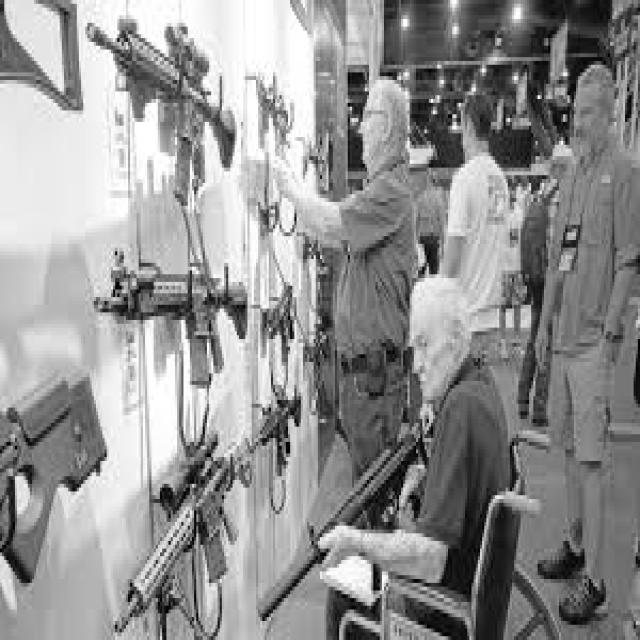rifle: (256, 414, 431, 629), (85, 0, 238, 212), (111, 432, 253, 636), (92, 244, 249, 390), (0, 372, 110, 571), (258, 375, 305, 476), (252, 67, 294, 157), (266, 283, 296, 353)
